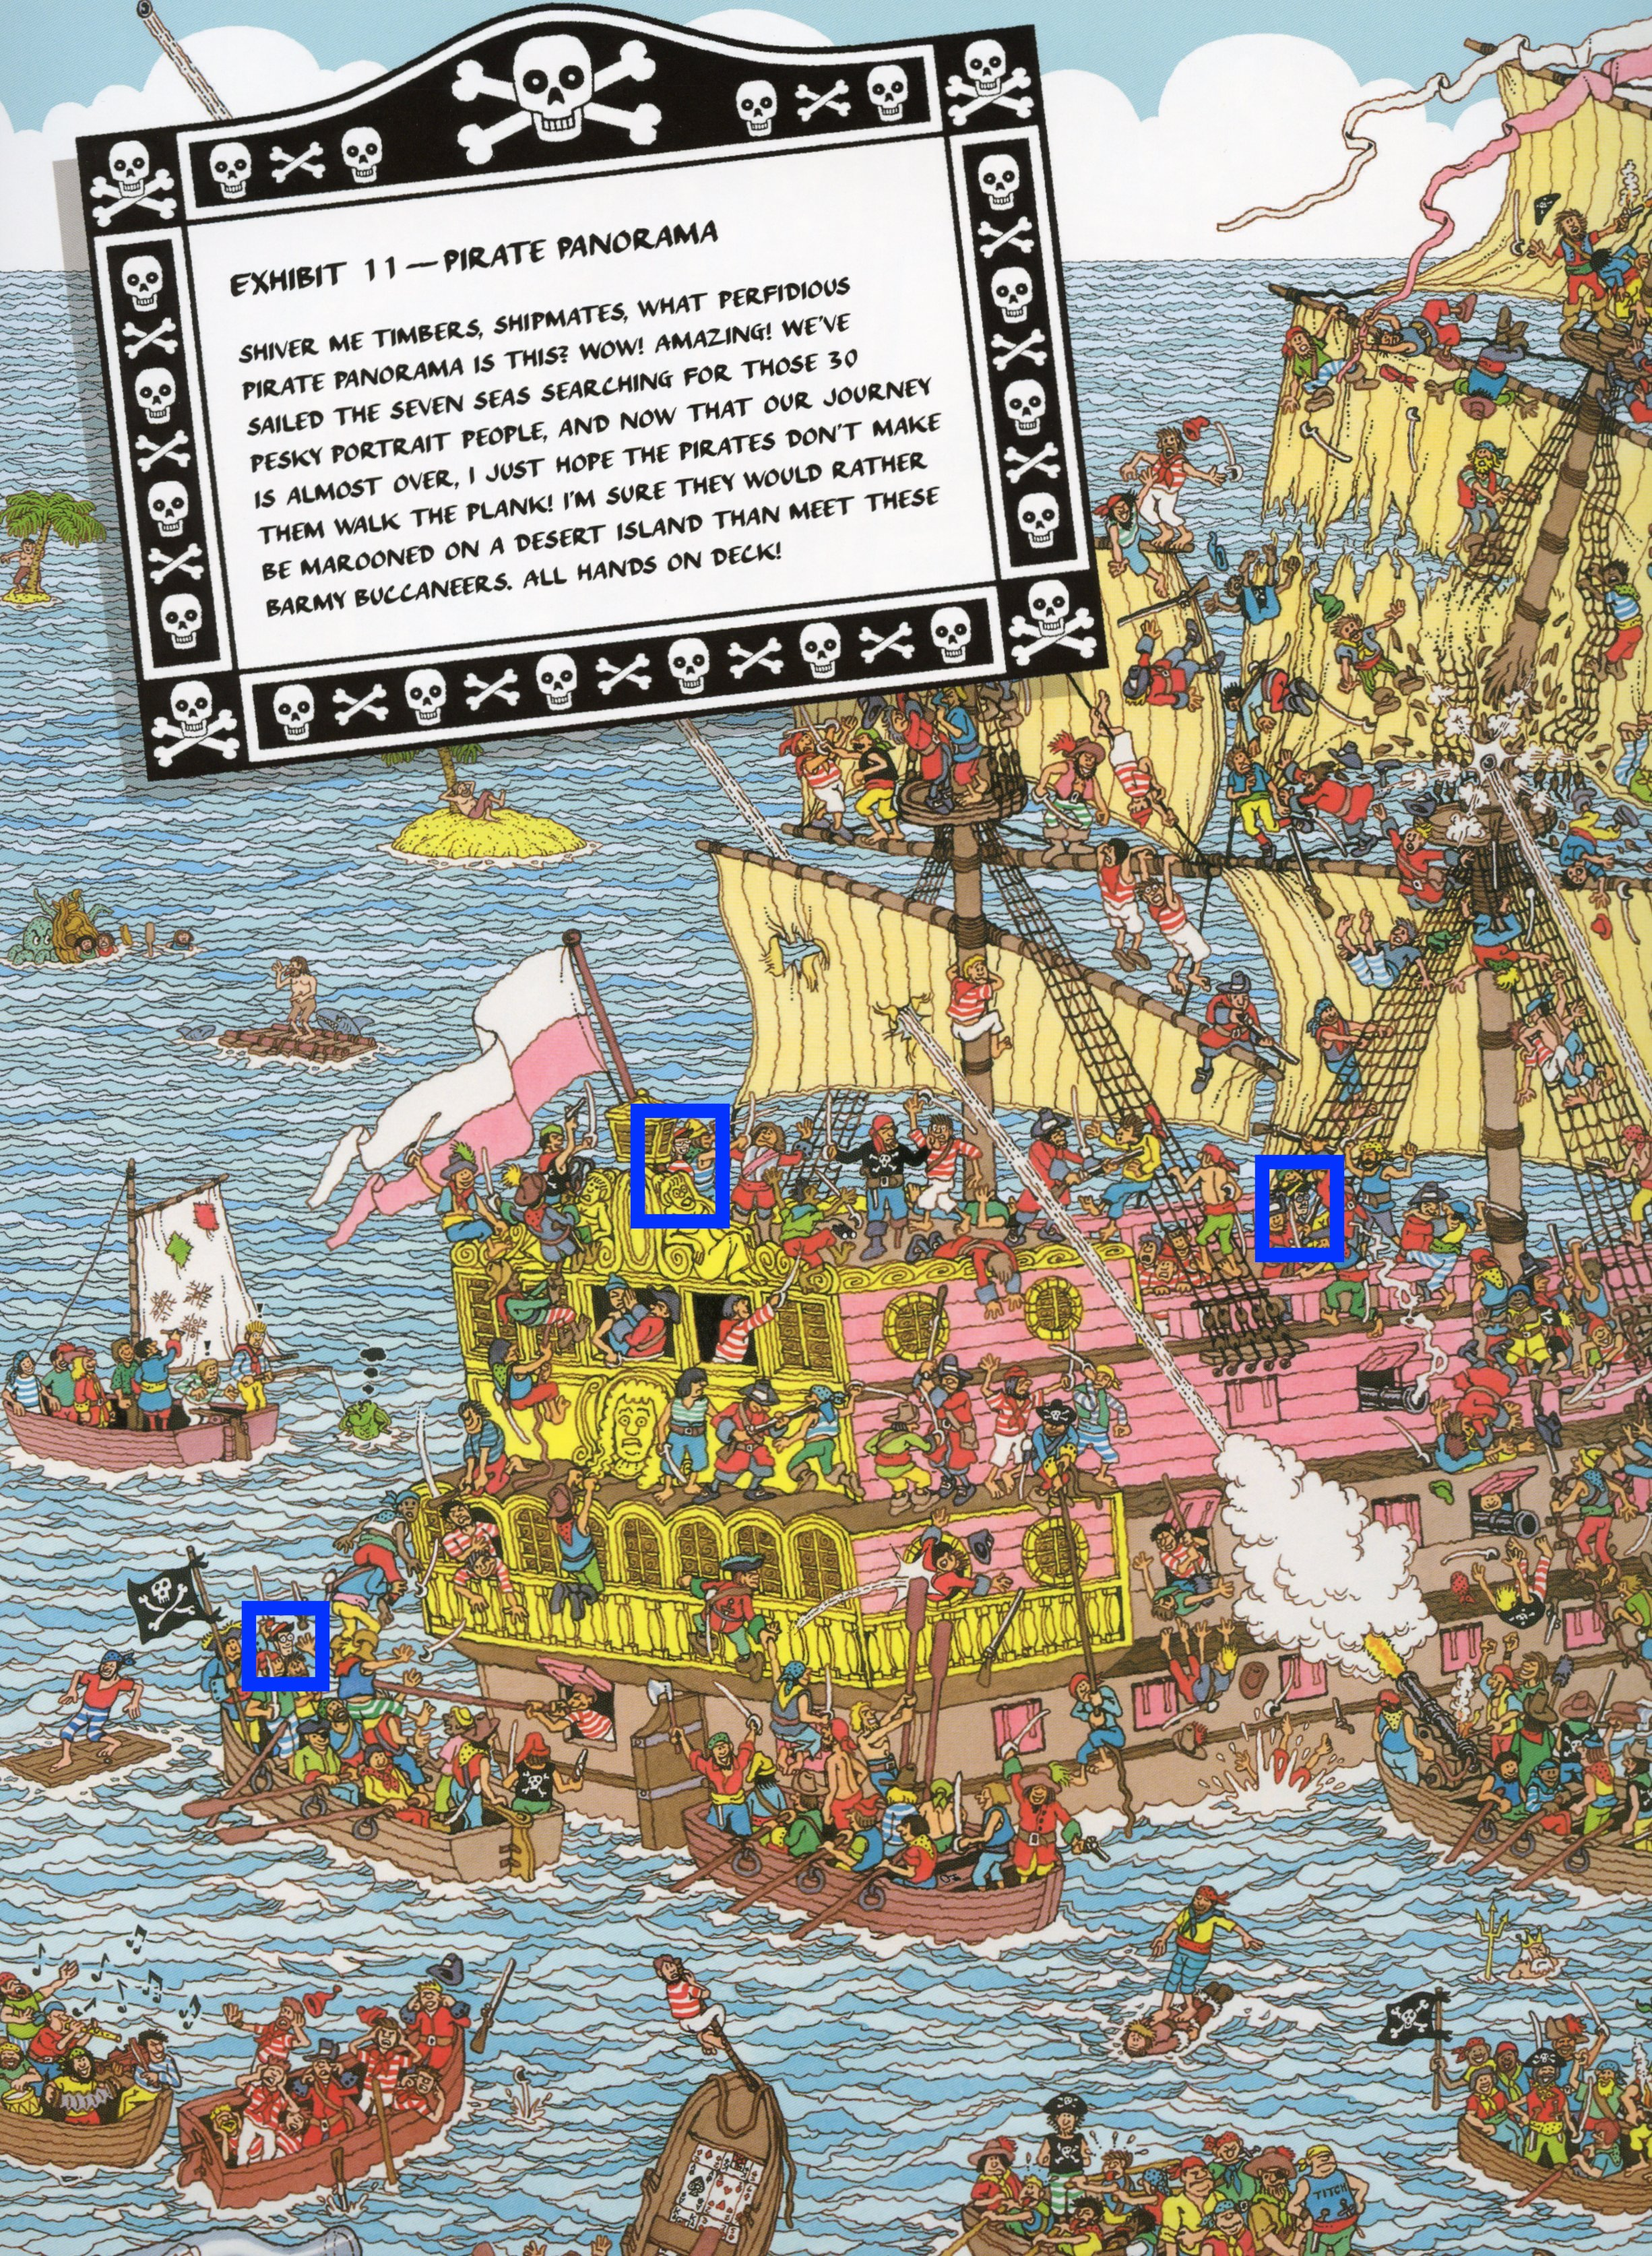odlaw: (1249, 1158, 1333, 1265)
wenda: (645, 1110, 713, 1238)
